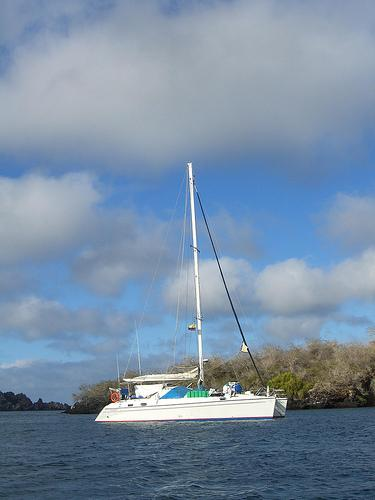Ship: (98, 162, 287, 424)
